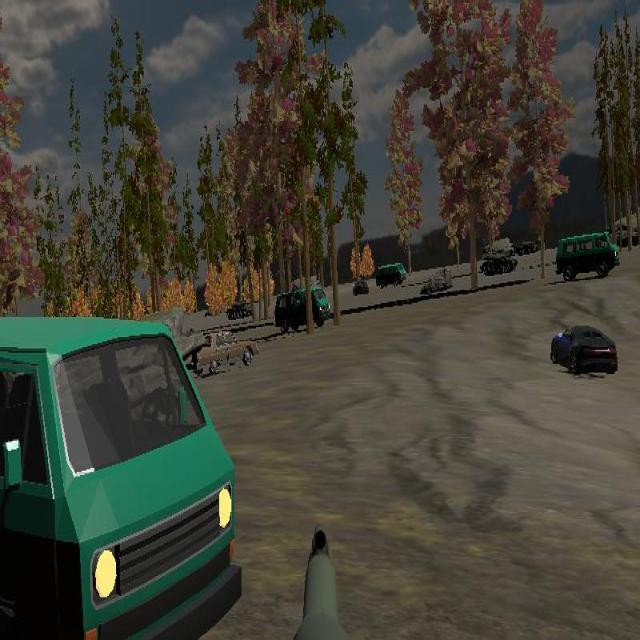Tank: (479, 248, 518, 276)
car: (550, 322, 618, 376), (185, 330, 257, 377), (556, 231, 618, 282), (274, 285, 330, 334), (375, 262, 407, 289)
